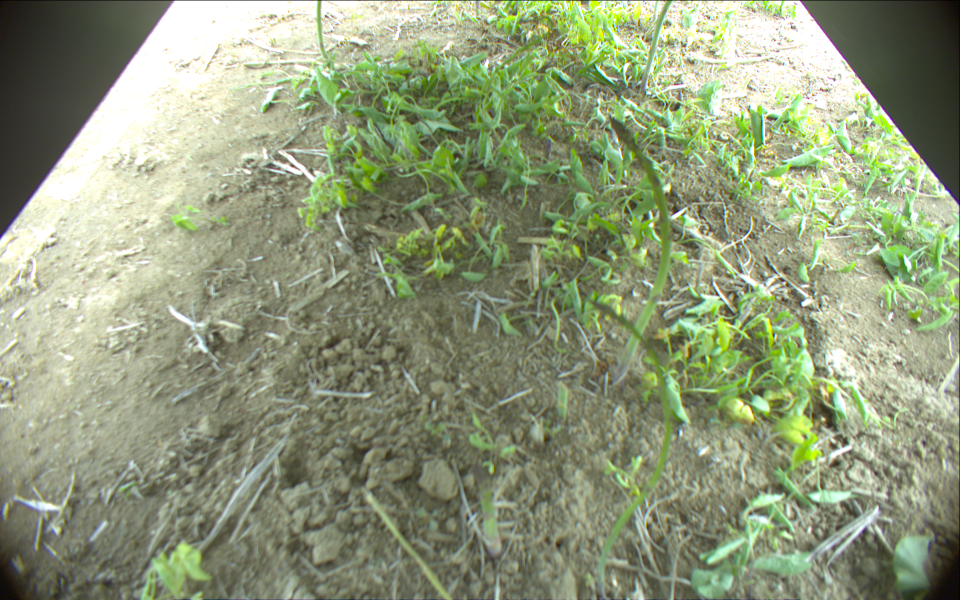aspa: (585, 298, 674, 600), (607, 116, 673, 393), (470, 465, 504, 556), (643, 1, 672, 93), (317, 1, 332, 66), (542, 139, 554, 169), (651, 1, 659, 19), (475, 1, 483, 18)
